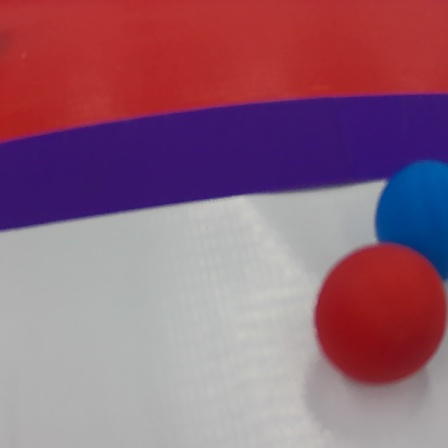blue: (370, 159, 448, 290)
red: (310, 246, 448, 385)
red_aim: (4, 0, 448, 239)
